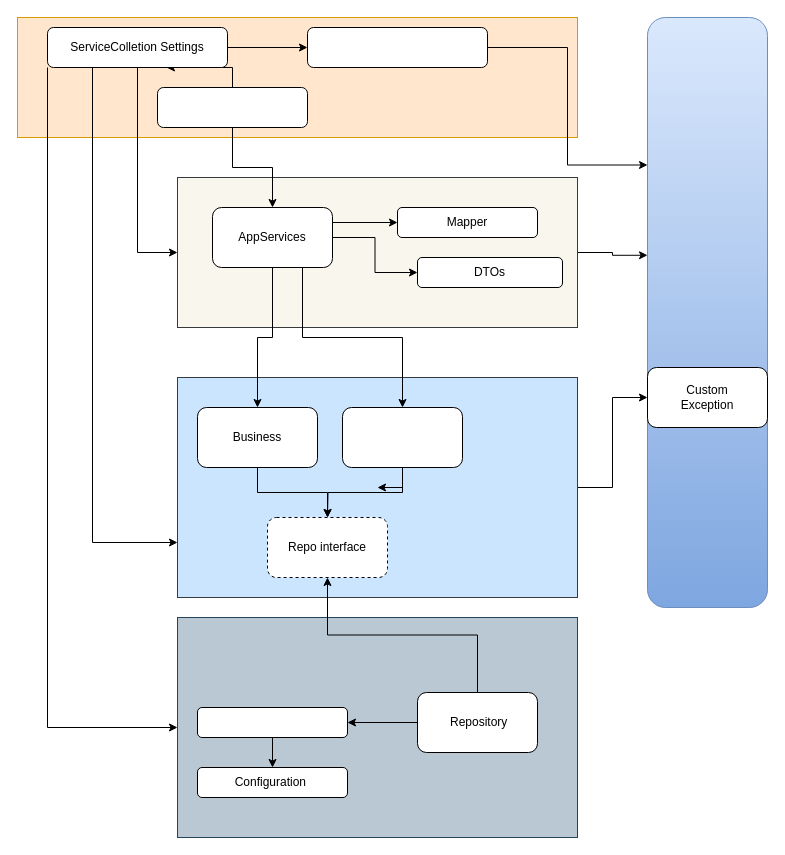
The diagram is 785 pixels wide and 855 high, and some of its shapes have lost their labels. The centre of each missing label's shape, as x and y in pixels:
"Context" belongs at (x=272, y=722).
"Controller" belongs at (x=232, y=107).
"Custom Exception Handler" belongs at (x=397, y=47).
"Entities" belongs at (x=402, y=437).
